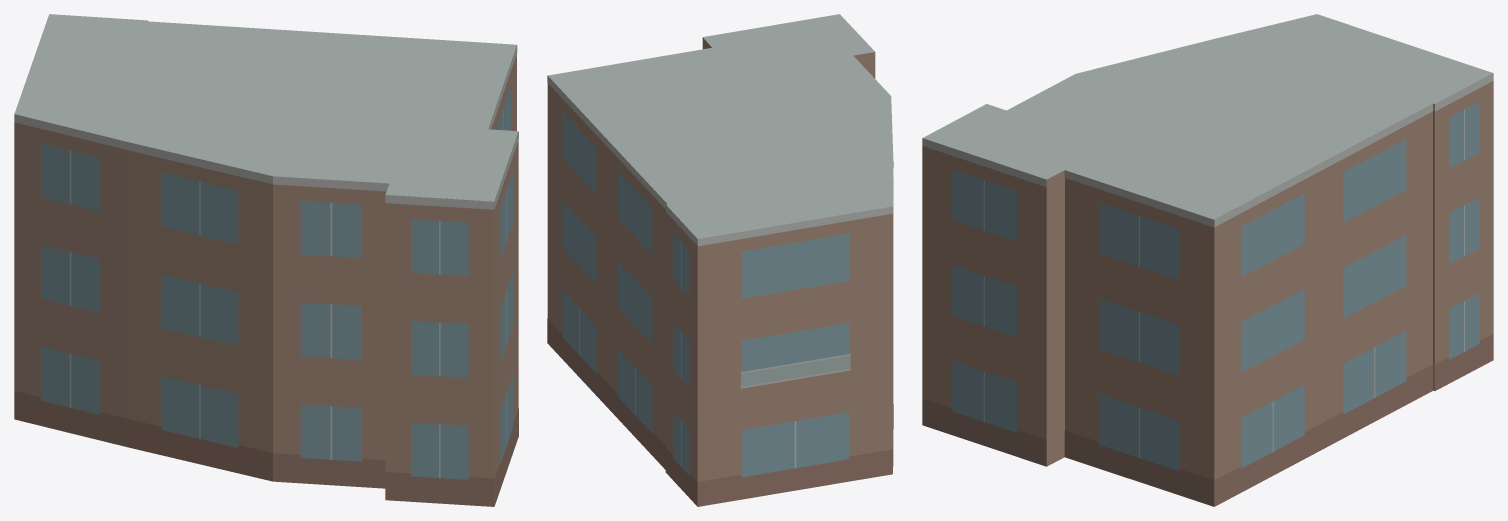
File: survey-upis-32920153.glb
3 views of the same model, side by side, from view 1: azimuth 30°, elevation 25°; view 2: azimuth 150°, elevation 25°; view 3: azimuth 270°, elevation 25° (orthographic). The views are drawn at different scales.
Visible parts, largest first — view 1: survey-upis-32920153.tmp; view 2: survey-upis-32920153.tmp; view 3: survey-upis-32920153.tmp.
Boxes of the visible parts, <box> form: survey-upis-32920153.tmp: <box>14,14,518,506</box>; survey-upis-32920153.tmp: <box>547,14,893,506</box>; survey-upis-32920153.tmp: <box>922,14,1493,506</box>.
Bounding box in the file's own units: 14.07 × 9.15 × 16.5.
